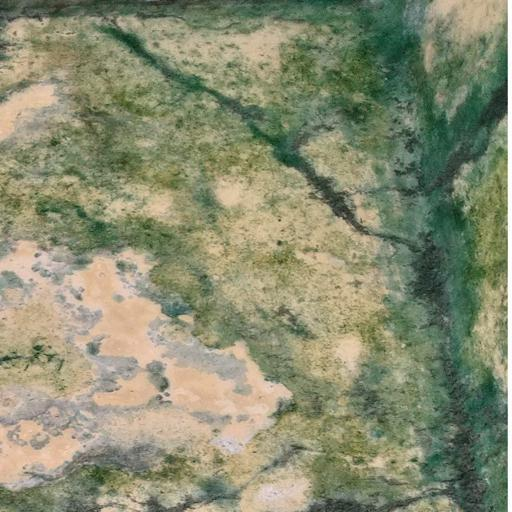algae: (92, 23, 512, 512)
